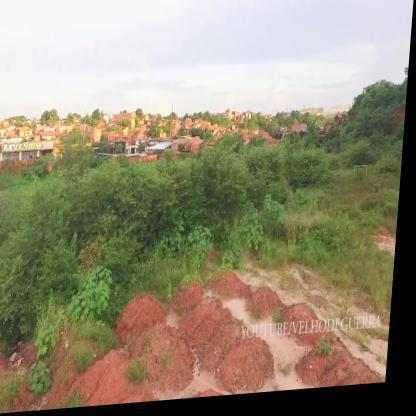agua: (232, 300, 255, 331)
